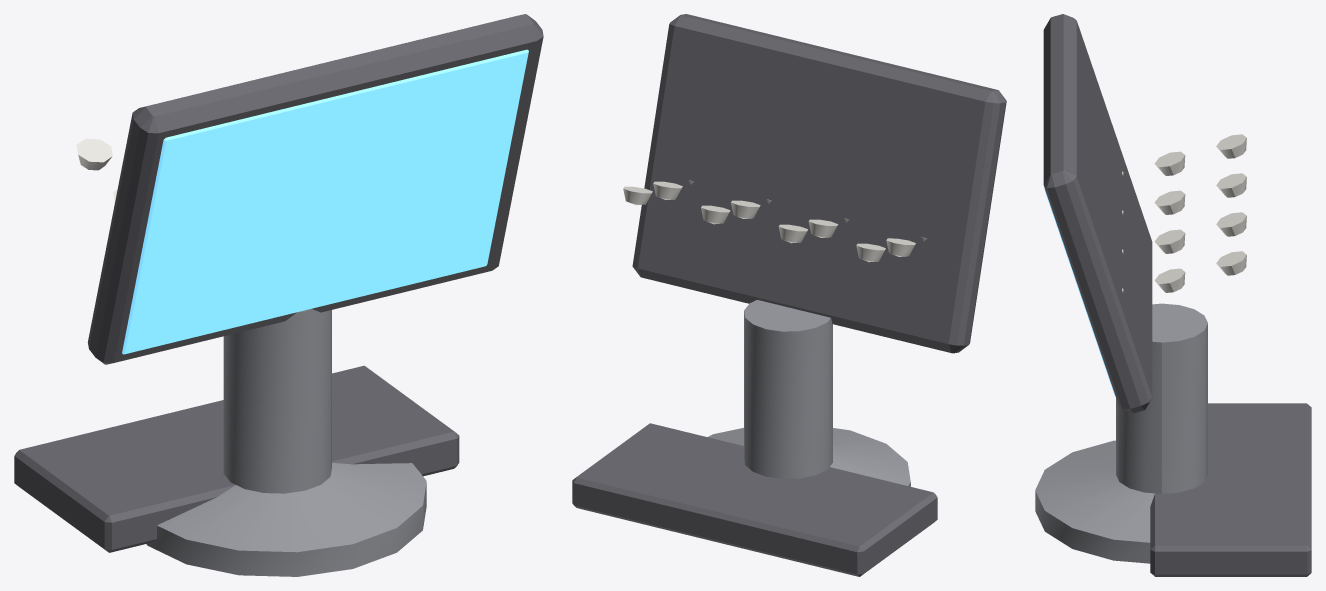
File: nightclub-and-dj-booth-till-screen-41f58c67__34124.glb
The picture shows the model from 3 angles, left to right: view 1: azimuth 30°, elevation 25°; view 2: azimuth 150°, elevation 25°; view 3: azimuth 270°, elevation 25°; orthographic projection. The views are drawn at different scales.
Visible parts, largest first — view 1: till-screen; view 2: till-screen; view 3: till-screen.
Part boxes in pixels (<box>): till-screen: <box>14,14,543,576</box>; till-screen: <box>572,14,1006,576</box>; till-screen: <box>1035,14,1311,576</box>.
Size of the model in its own units: 0.34 by 0.4011 by 0.24.
